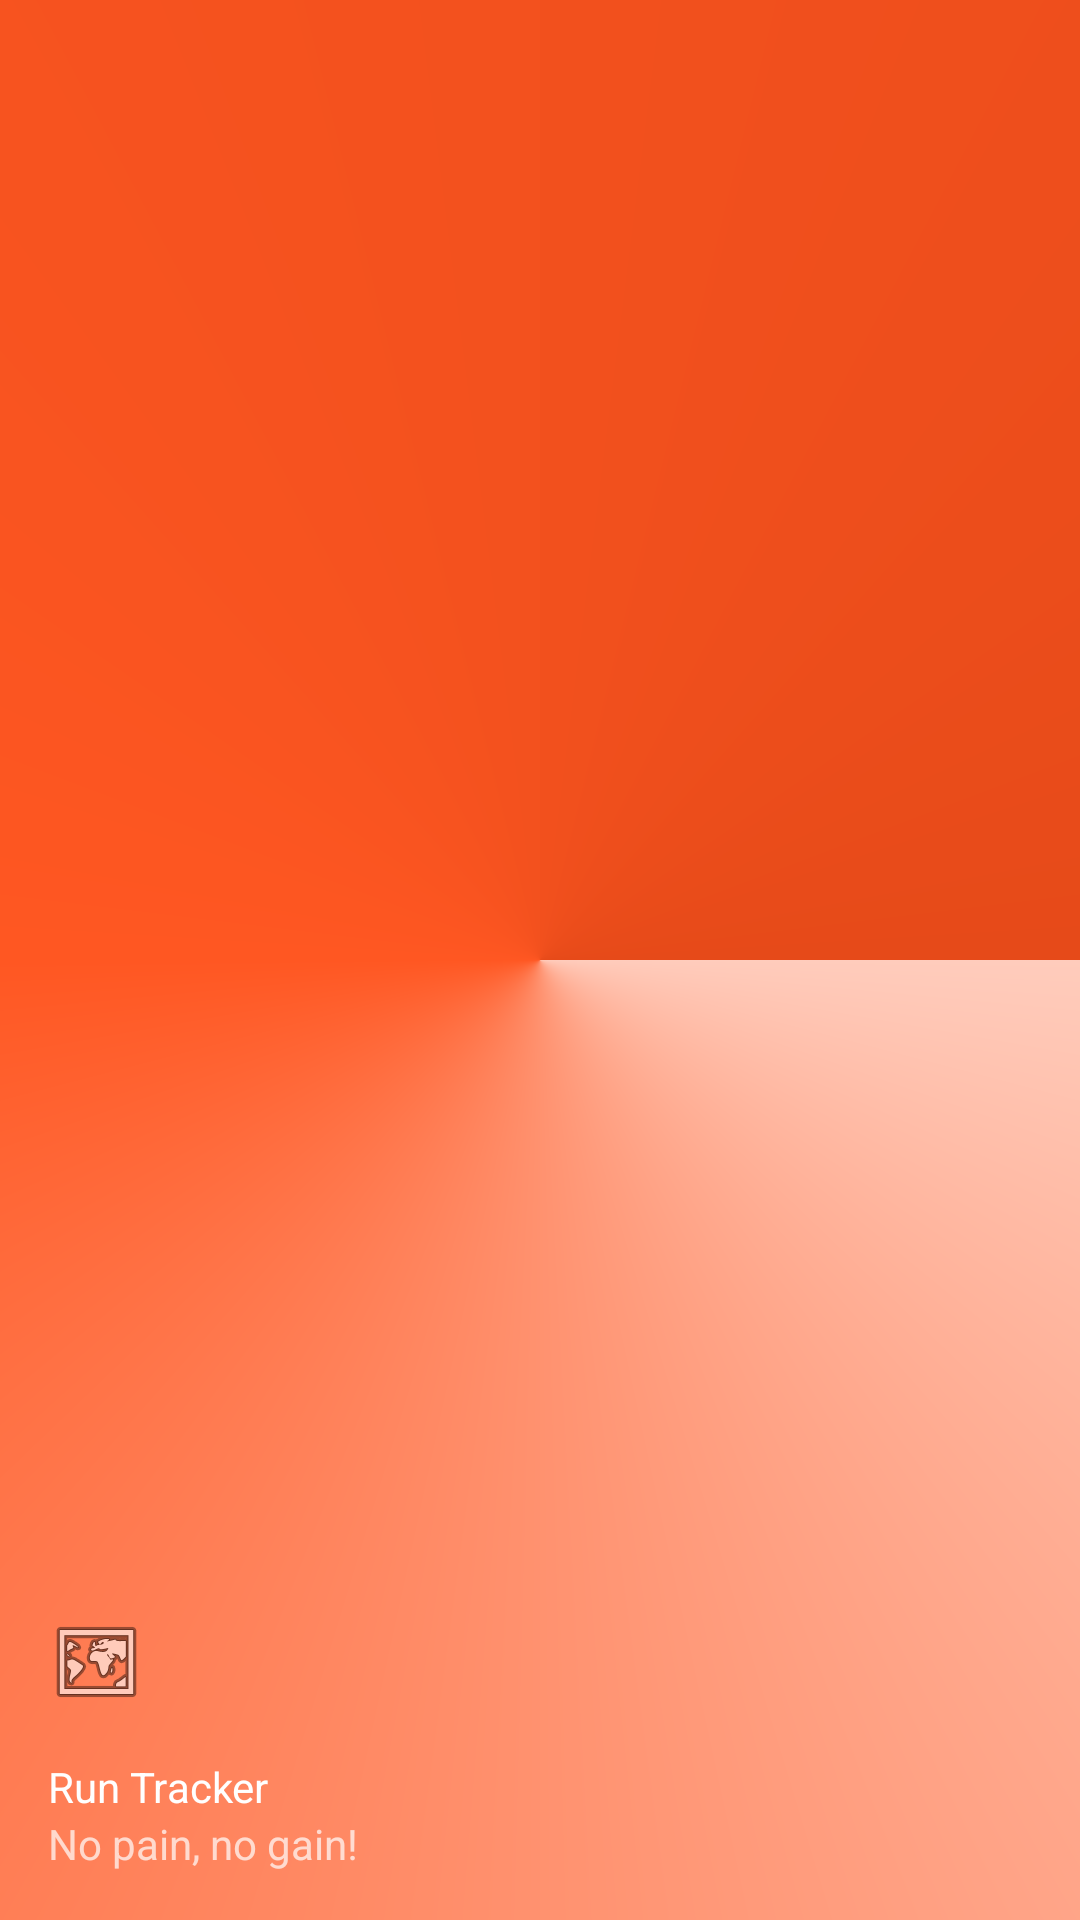

Named icons in this screenshot (1080 x 1920) and their bounding boxes, [x1,y1,x2,y2]:
mapmode: [56,1627,137,1697]
